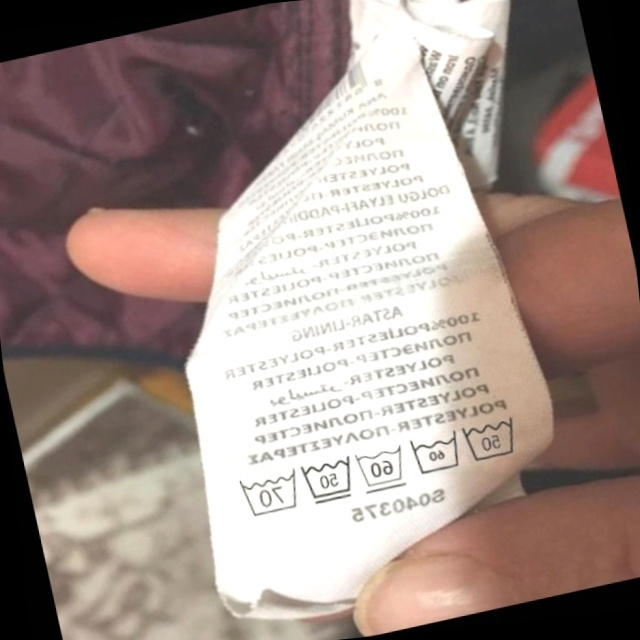50C: (453, 405, 529, 472), (293, 448, 363, 513)
60C: (347, 437, 413, 499), (401, 423, 468, 484)
70C: (229, 463, 305, 525)
